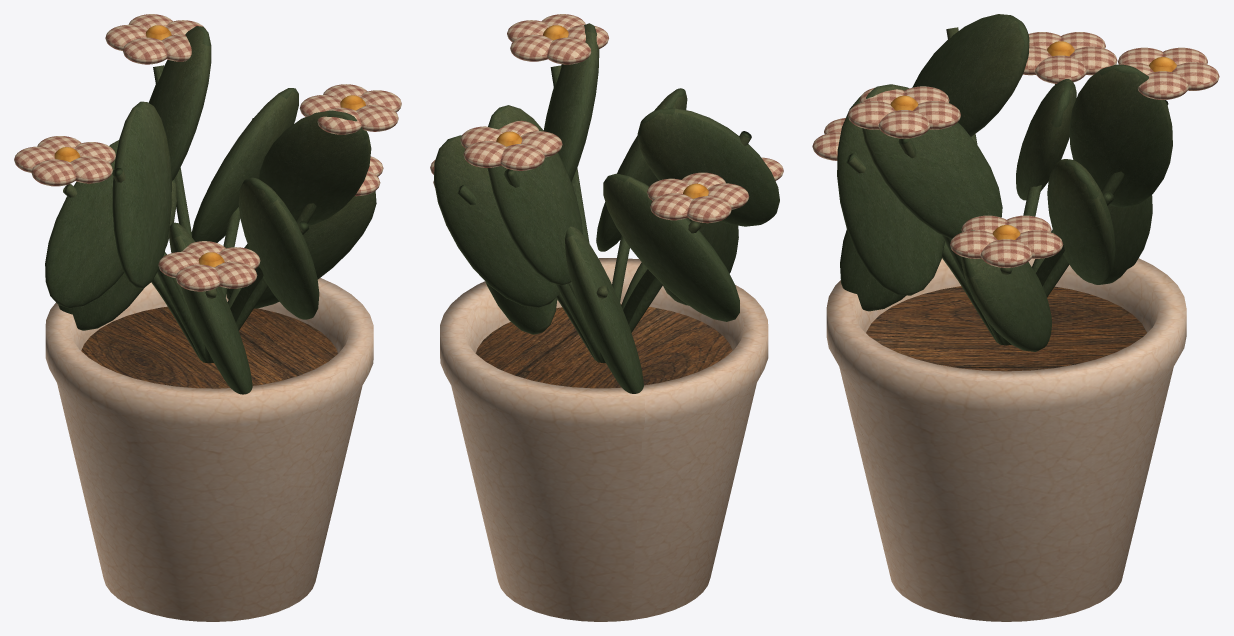
The model's file is SM_MoleControlV2_FlowerPot.fbx.
3 renders of one model, left to right at view 1: azimuth 30°, elevation 25°; view 2: azimuth 150°, elevation 25°; view 3: azimuth 270°, elevation 25°, orthographic. The views are drawn at different scales.
Visible parts, largest first — view 1: SM_MoleControlV2_FlowerPot; view 2: SM_MoleControlV2_FlowerPot; view 3: SM_MoleControlV2_FlowerPot.
Boxes of the visible parts, <box> form: SM_MoleControlV2_FlowerPot: <box>14,14,401,621</box>; SM_MoleControlV2_FlowerPot: <box>430,14,783,621</box>; SM_MoleControlV2_FlowerPot: <box>812,14,1219,621</box>.
Size of what is drawn, in the model's own units: 45 by 45 by 65.
